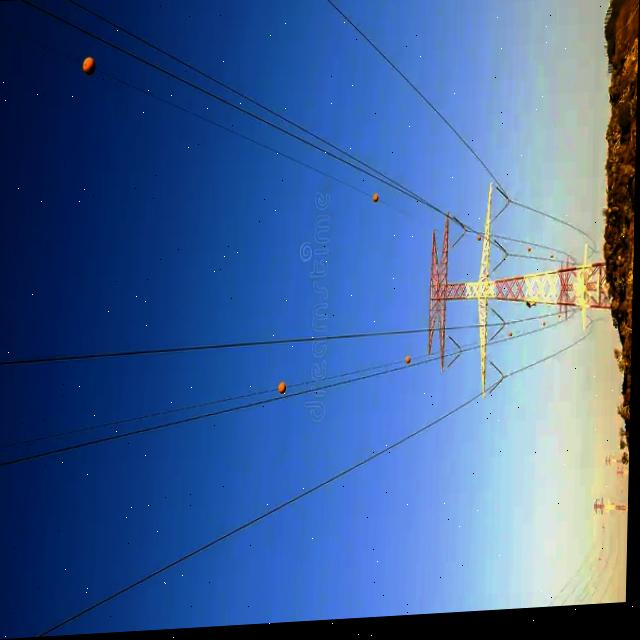poles: (428, 186, 618, 400)
wires: (16, 0, 470, 232), (5, 369, 400, 465)
